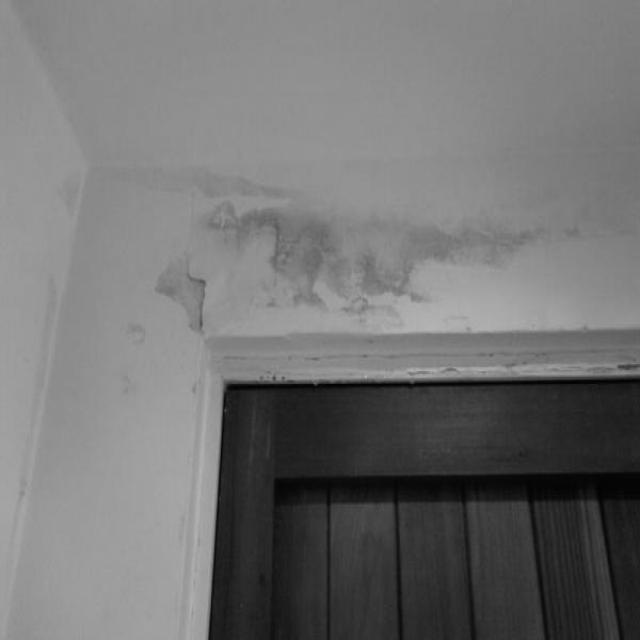stain marks: (204, 199, 602, 327), (15, 270, 62, 499), (90, 164, 312, 206), (54, 165, 84, 222), (122, 316, 152, 352)
